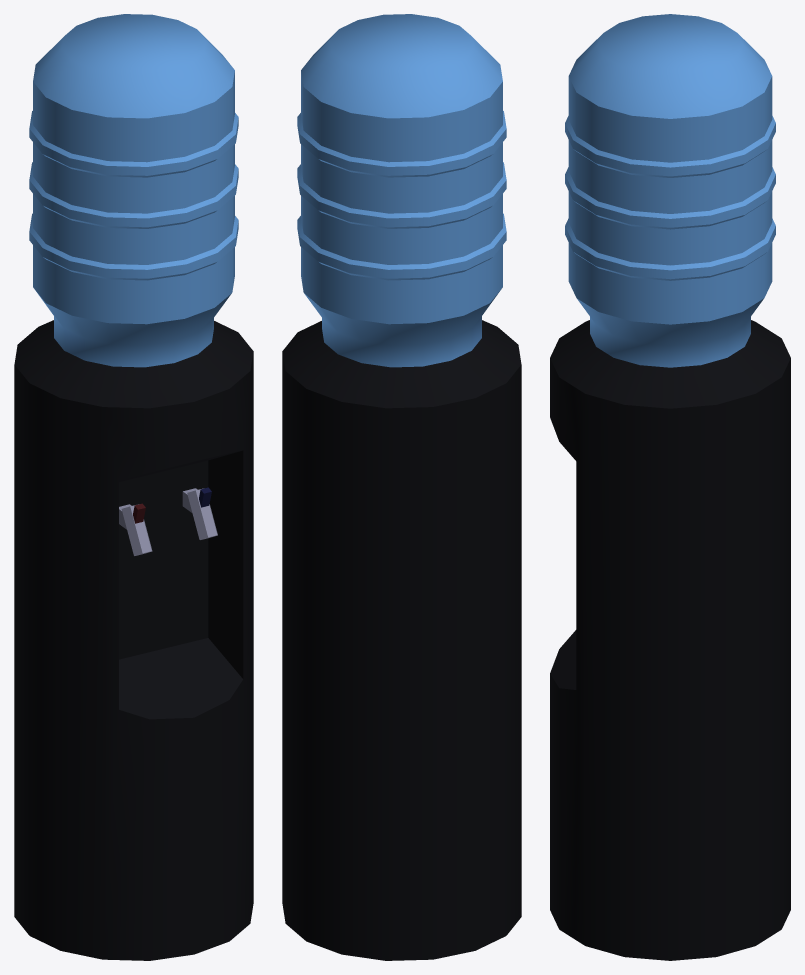
File: SM_WaterCooler.fbx
3 views of the same model, side by side, from view 1: azimuth 30°, elevation 25°; view 2: azimuth 150°, elevation 25°; view 3: azimuth 270°, elevation 25° (orthographic).
Parts seen in each view (by area): view 1: SM_WaterCooler; view 2: SM_WaterCooler; view 3: SM_WaterCooler.
Part boxes in pixels (x1=…): SM_WaterCooler: x1=14, y1=14, x2=253, y2=960; SM_WaterCooler: x1=282, y1=14, x2=521, y2=960; SM_WaterCooler: x1=550, y1=14, x2=790, y2=960.
Size of the model in its own units: 40 by 159 by 40.
